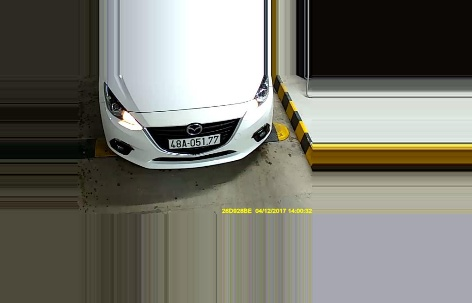plate: (167, 134, 220, 149)
